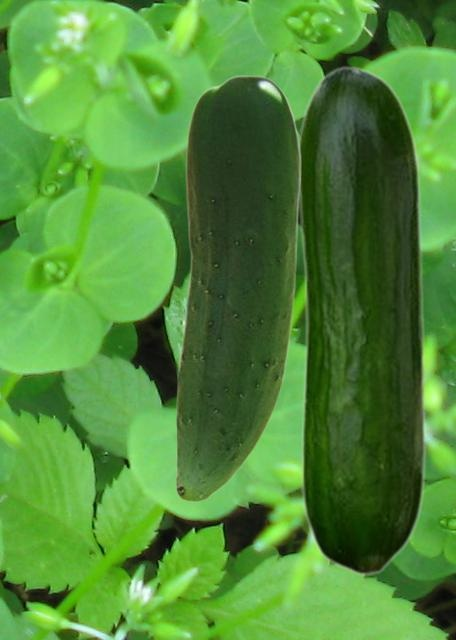cucumber: (298, 65, 426, 575), (175, 75, 300, 501)
